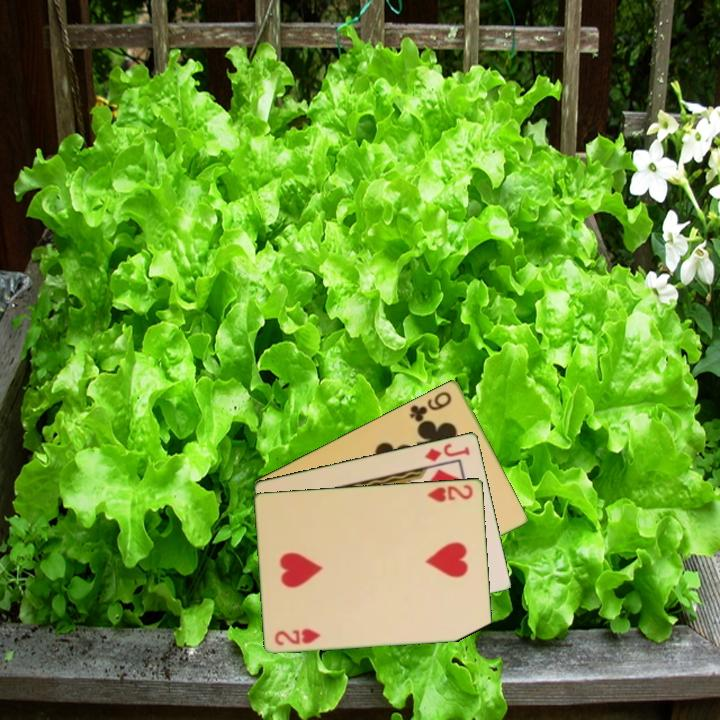2h: (423, 481, 476, 505), (271, 625, 324, 648)
9c: (406, 387, 455, 425)
Jd: (421, 439, 473, 464)
